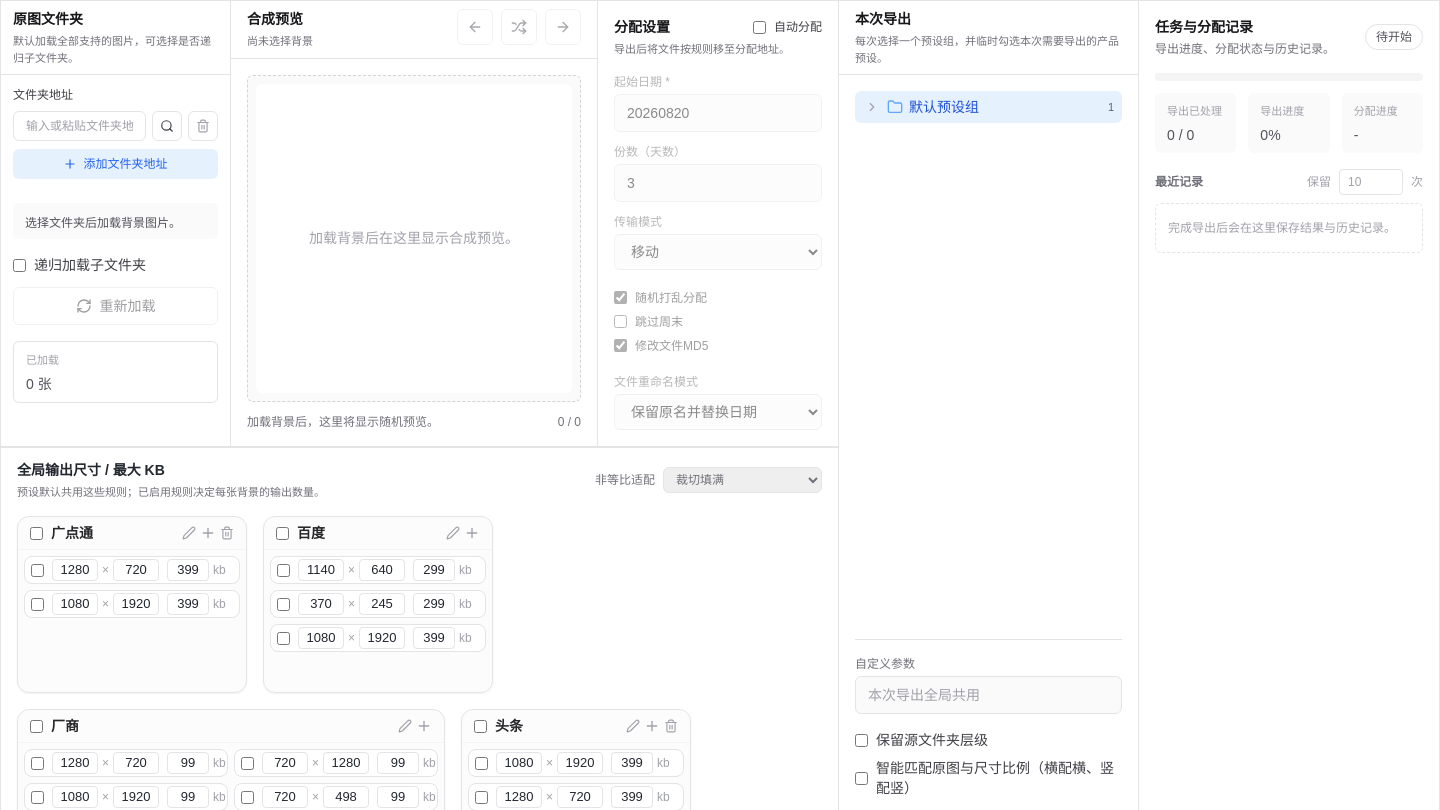
Test: BatchExportTab › keeps the entered address visible, clears backgrounds, and shows feedback when scanning fails
Click the button named "浏览文件夹地址 1".
click(167, 126)  # box left=152, top=111, right=182, bottom=141
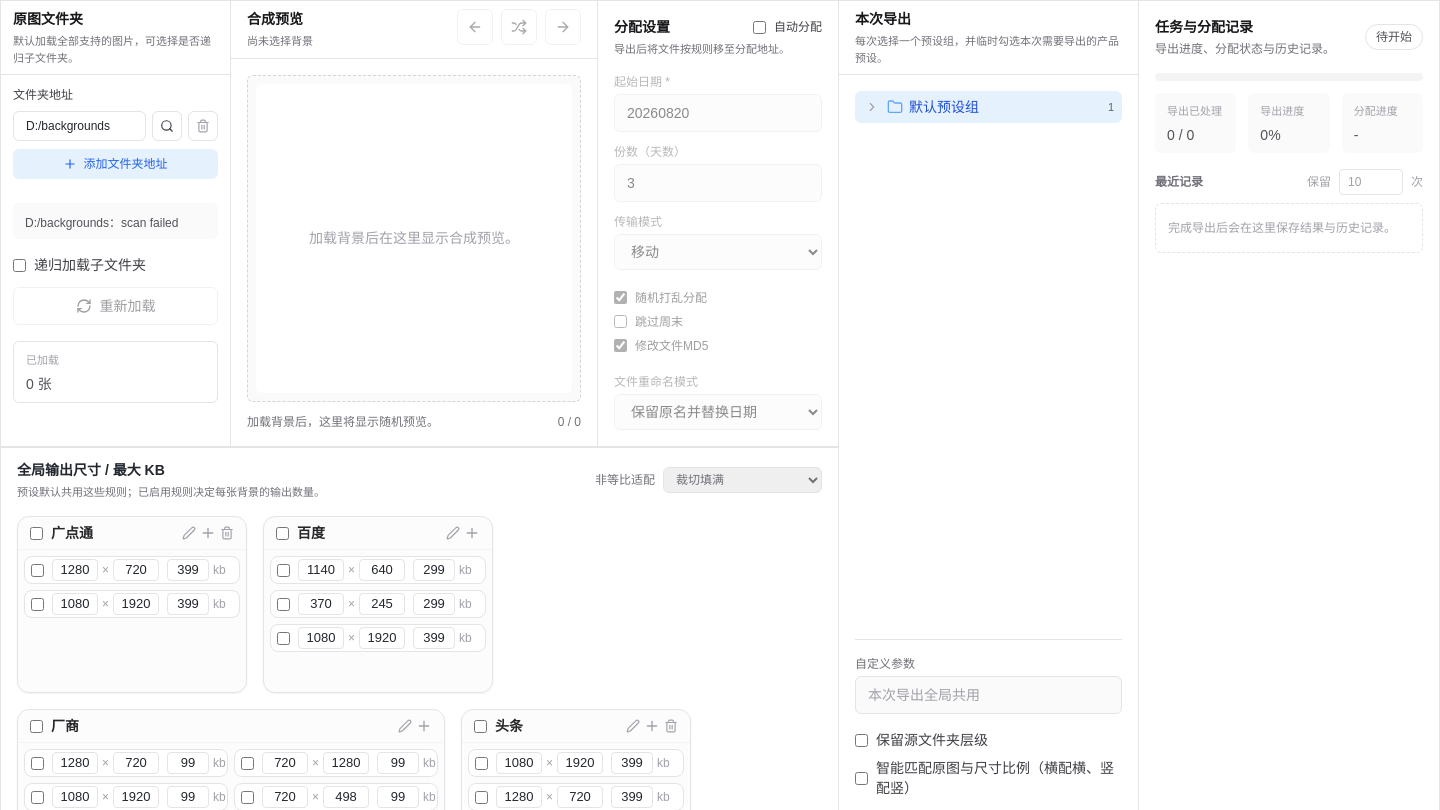
Expected: the field named "文件夹地址 1" holds "D:/backgrounds", left=13, top=111, right=146, bottom=141
Expected: the text "scan failed" is shown, left=25, top=216, right=178, bottom=230
